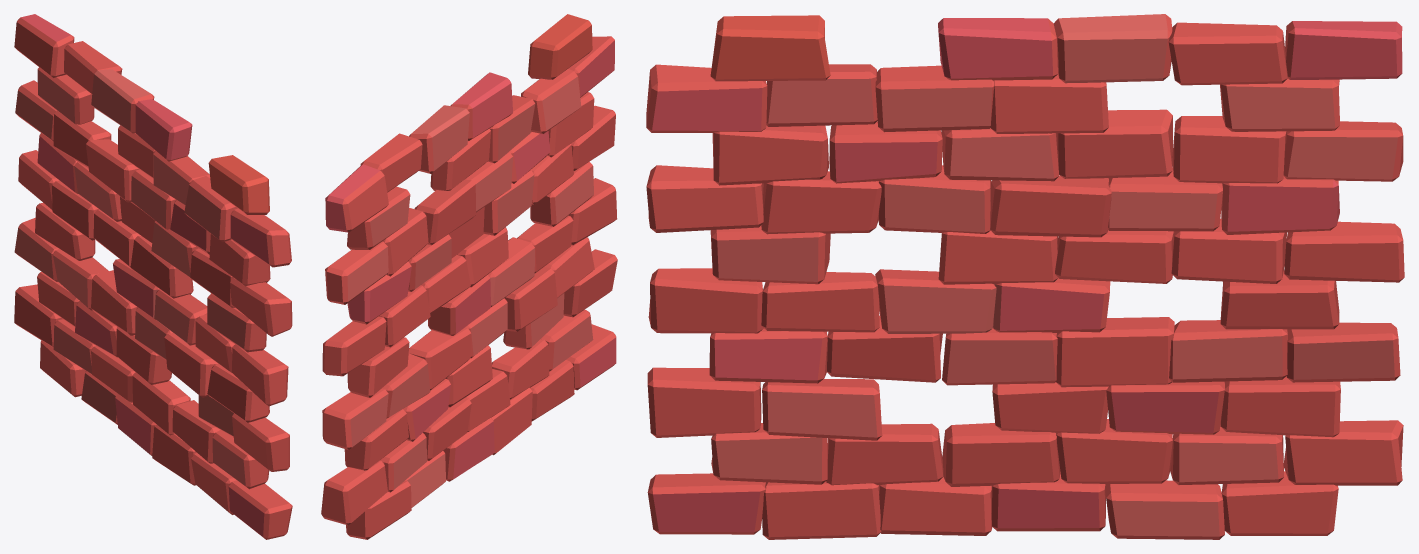
The model's file is walltall.fbx.
The picture shows the model from 3 angles, left to right: view 1: azimuth 30°, elevation 25°; view 2: azimuth 150°, elevation 25°; view 3: azimuth 270°, elevation 25°; orthographic projection. The views are drawn at different scales.
Parts seen in each view (by area): view 1: Wall; view 2: Wall; view 3: Wall.
Boxes of the visible parts, x1,y1,x2,y2 form: Wall: (14,14,292,539); Wall: (321,14,617,539); Wall: (646,14,1404,539).
Size of the model in its own units: 123 by 988 by 1325.
